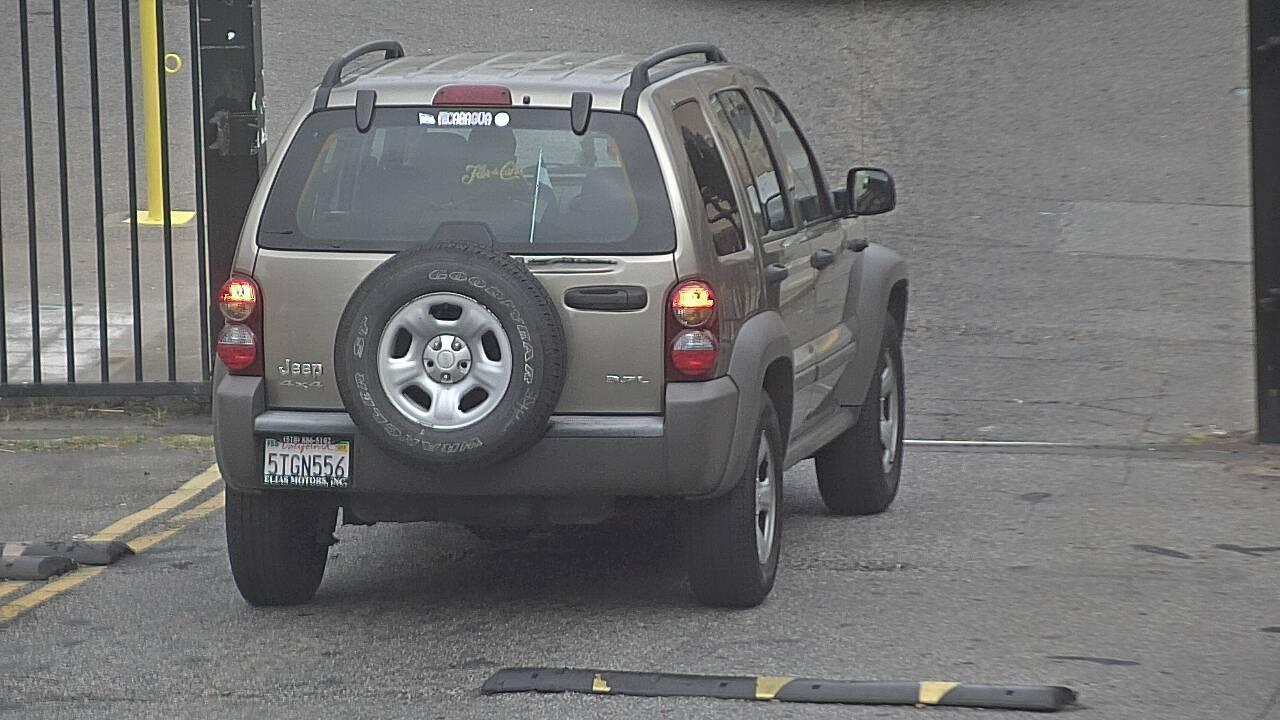placa de veiculo: (254, 420, 359, 498)
